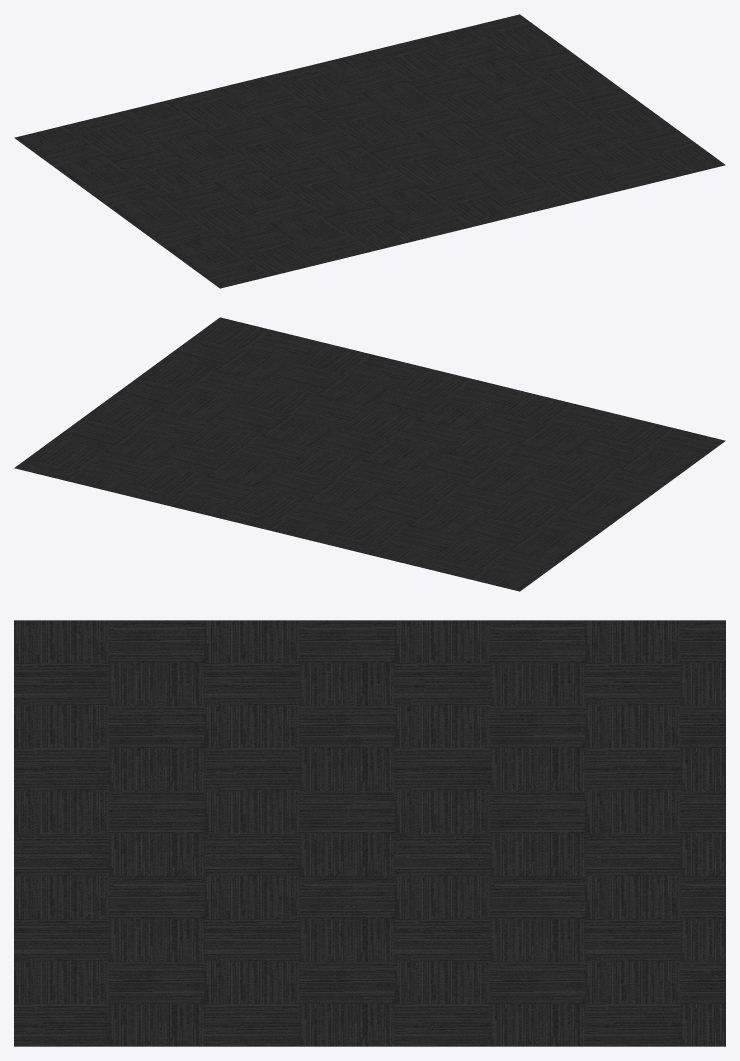
The model's file is Floor.fbx.
3 renders of one model, top to bottom at view 1: azimuth 30°, elevation 25°; view 2: azimuth 150°, elevation 25°; view 3: azimuth 270°, elevation 25°, orthographic. The views are drawn at different scales.
Visible parts, largest first — view 1: Plane.003; view 2: Plane.003; view 3: Plane.003.
Part boxes in pixels (x1,y1,x2,y2): Plane.003: (14,14,725,288); Plane.003: (14,317,725,591); Plane.003: (14,620,725,1046).
Bounding box in the file's own units: 931 × 0.000107 × 657.
